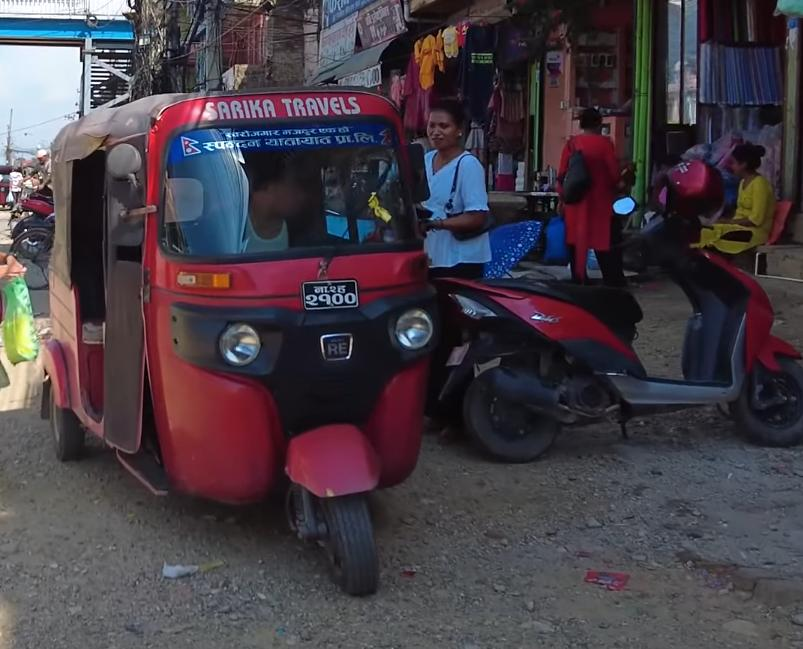auto_rickshaw: (23, 78, 443, 607)
scooter: (427, 189, 803, 452)
